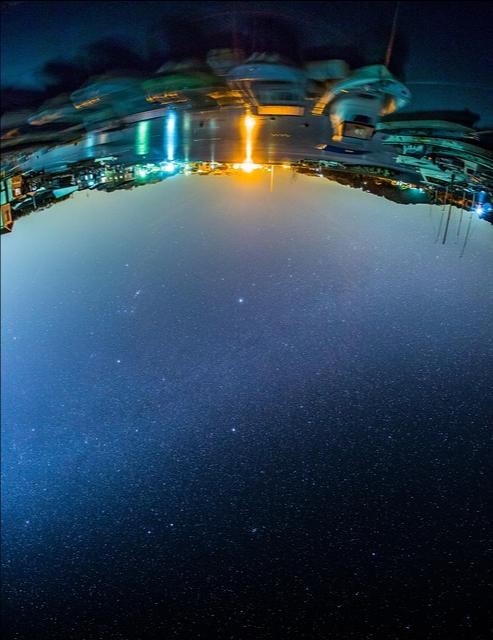Non_Gorille: (23, 54, 472, 368)
